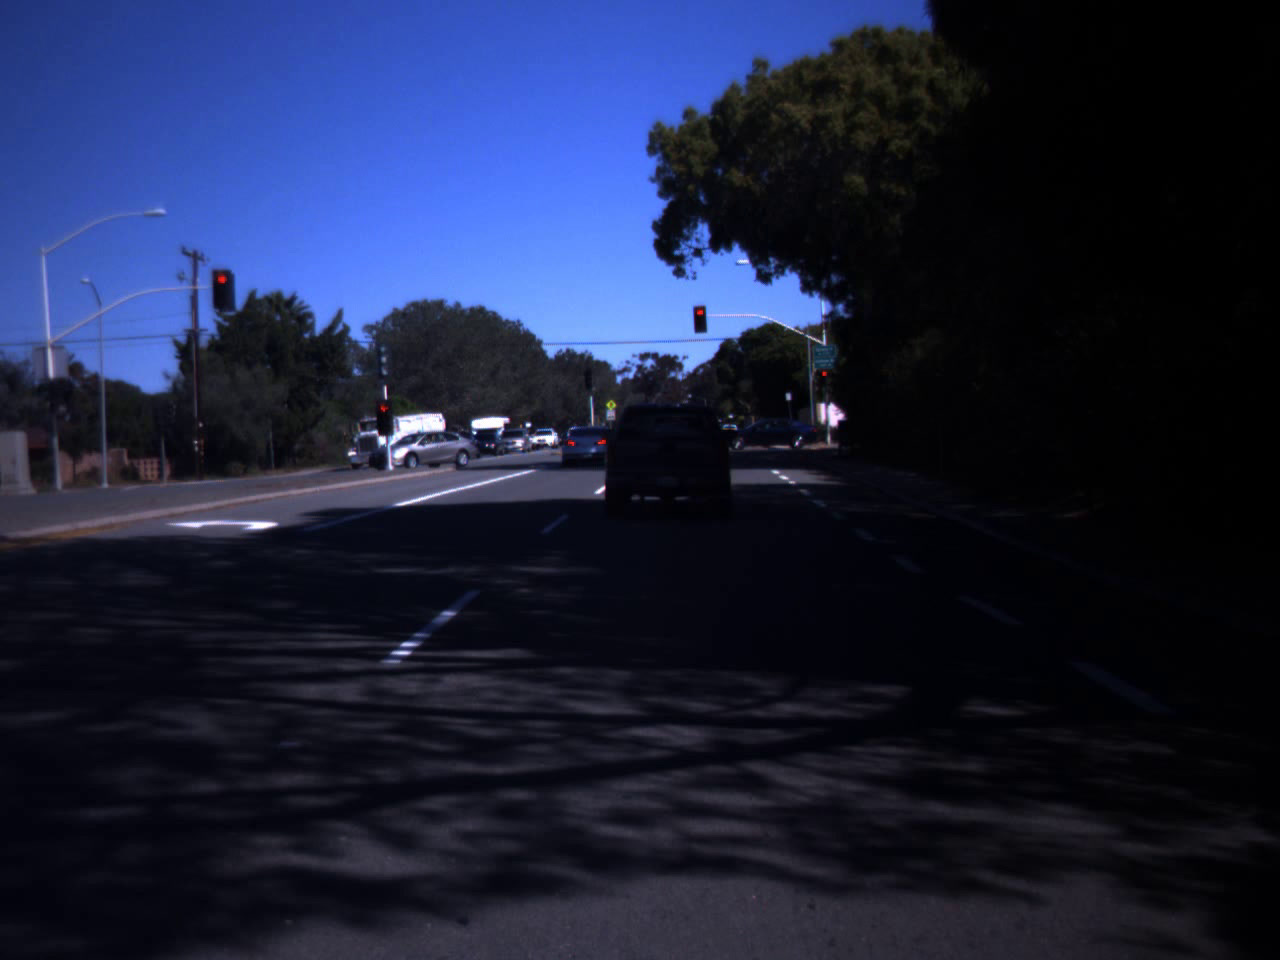stop: (688, 304, 712, 340), (213, 274, 231, 296), (818, 370, 830, 388), (377, 405, 389, 423)
